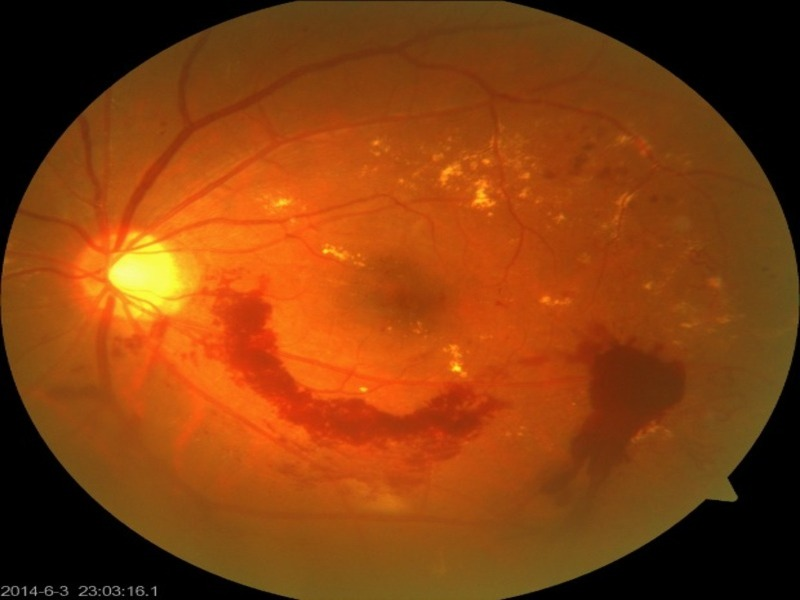Optic Cup: (108, 241, 186, 305)
Optic Disc: (80, 225, 197, 325)
